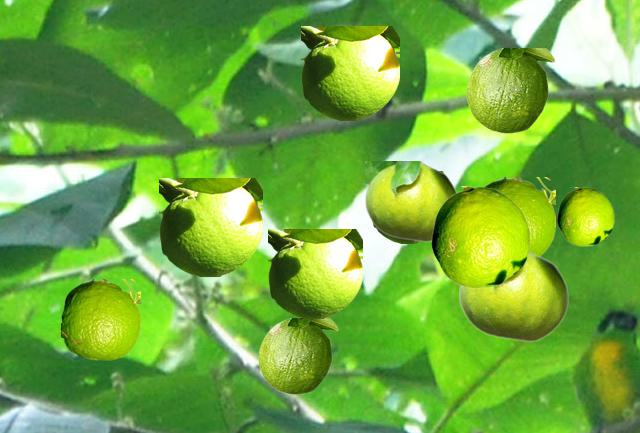dalandan: (459, 250, 568, 341), (431, 186, 529, 287), (159, 178, 261, 275), (301, 26, 398, 119), (268, 229, 361, 317), (466, 48, 554, 132), (365, 161, 457, 241), (61, 279, 139, 359), (258, 318, 337, 393), (485, 177, 554, 255), (372, 171, 443, 242), (557, 187, 613, 245)
